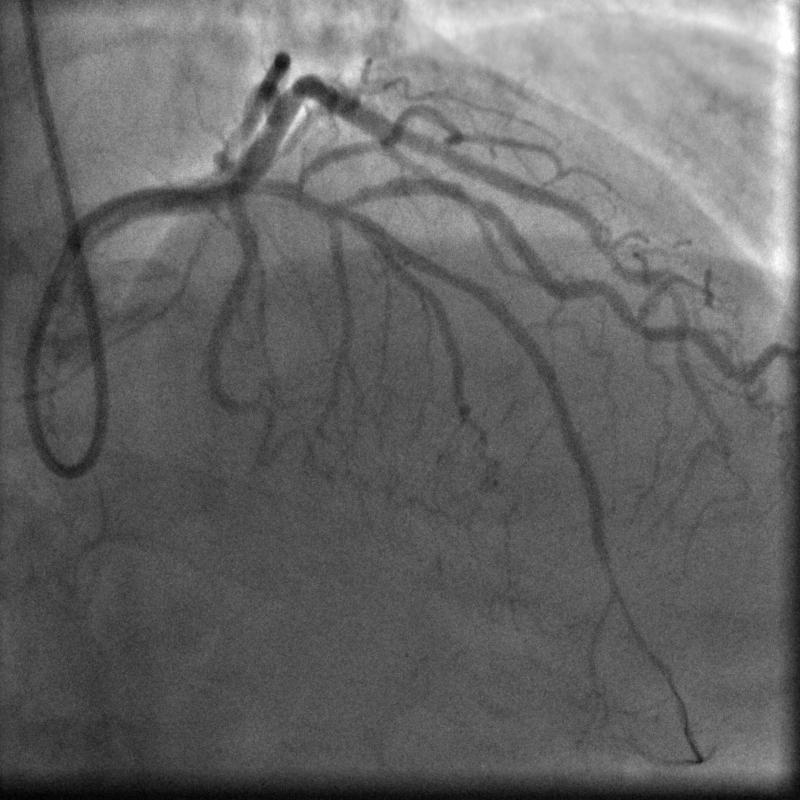Stenosis: (449, 179, 499, 218)
